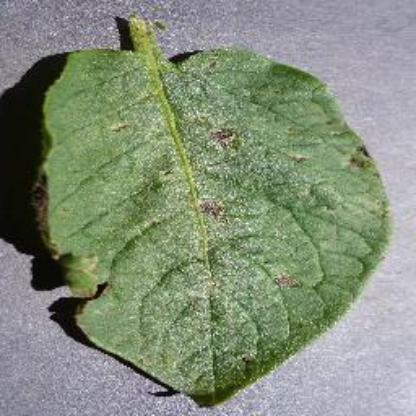Early-Blight: (22, 10, 404, 412)
